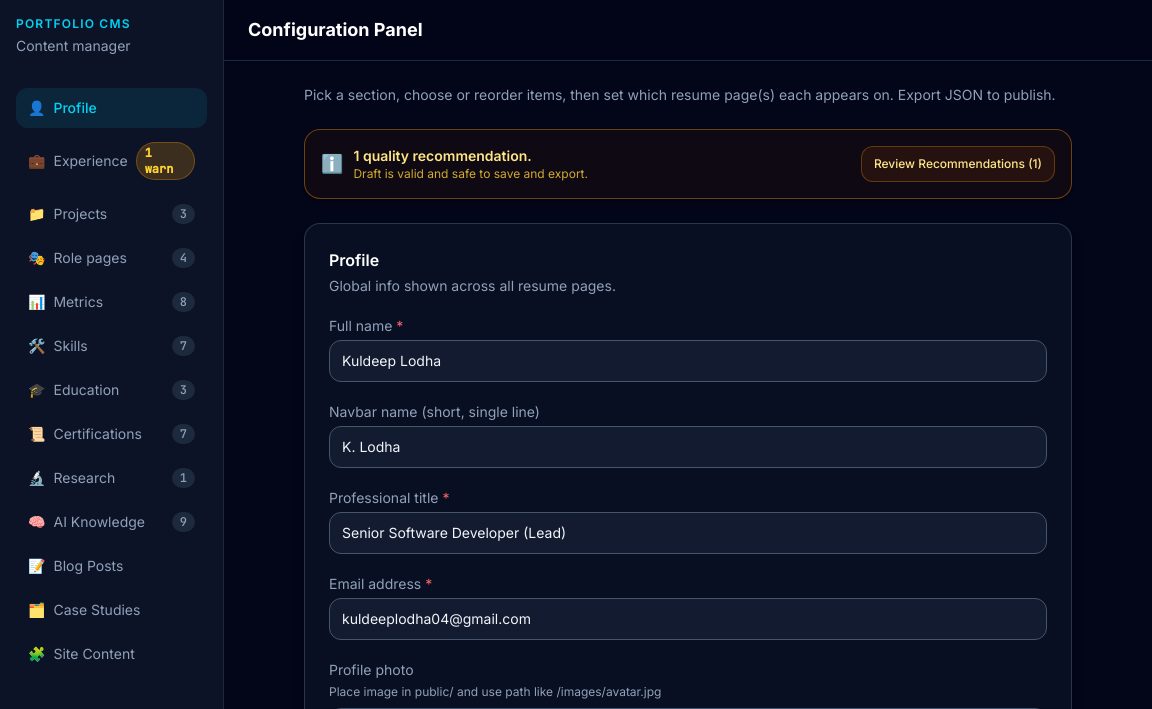
Test: AdminPage Validation Integration › gates Save Draft and Export JSON buttons and displays inline error feedback when name is cleared
This screenshot has width=1152, height=709.
// Clear name
Clear the field labelled "Full name*" at (688, 361), box [329,340,1047,382]
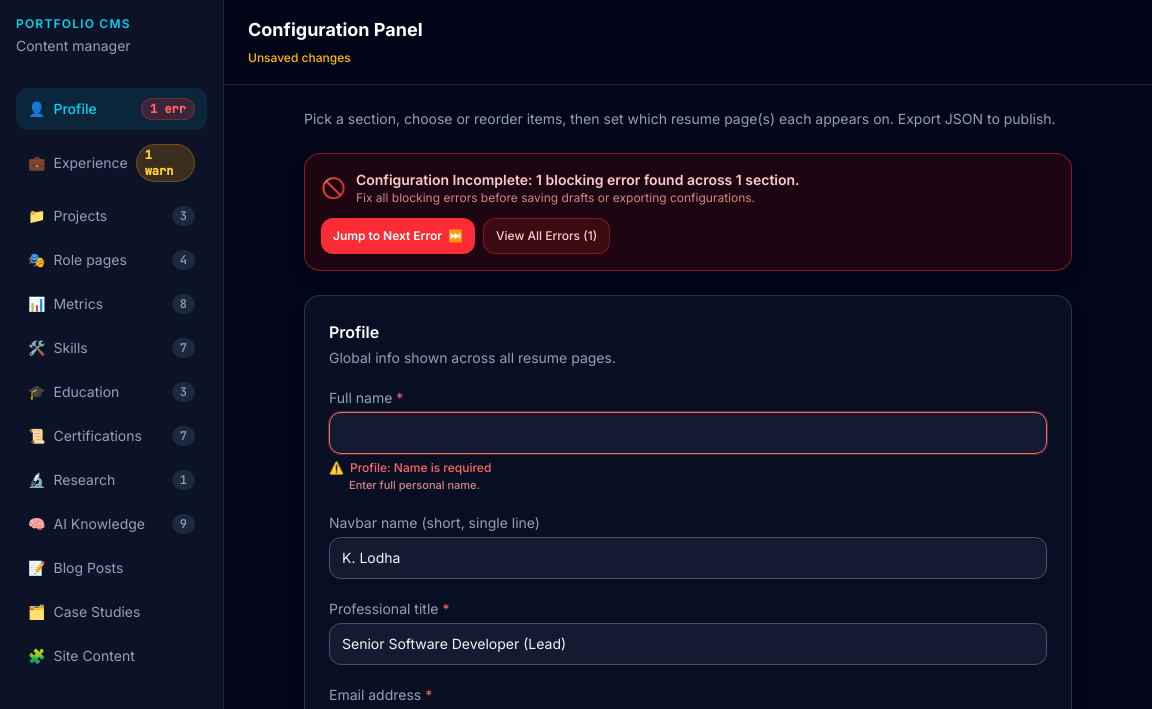
Expected: the text "Profile: Name is required" is shown, [350,460,491,476]
Expected: the text "1 blocking error found" is shown, [356,170,800,190]
Expected: the text "1 err" is shown, [141,98,195,120]
